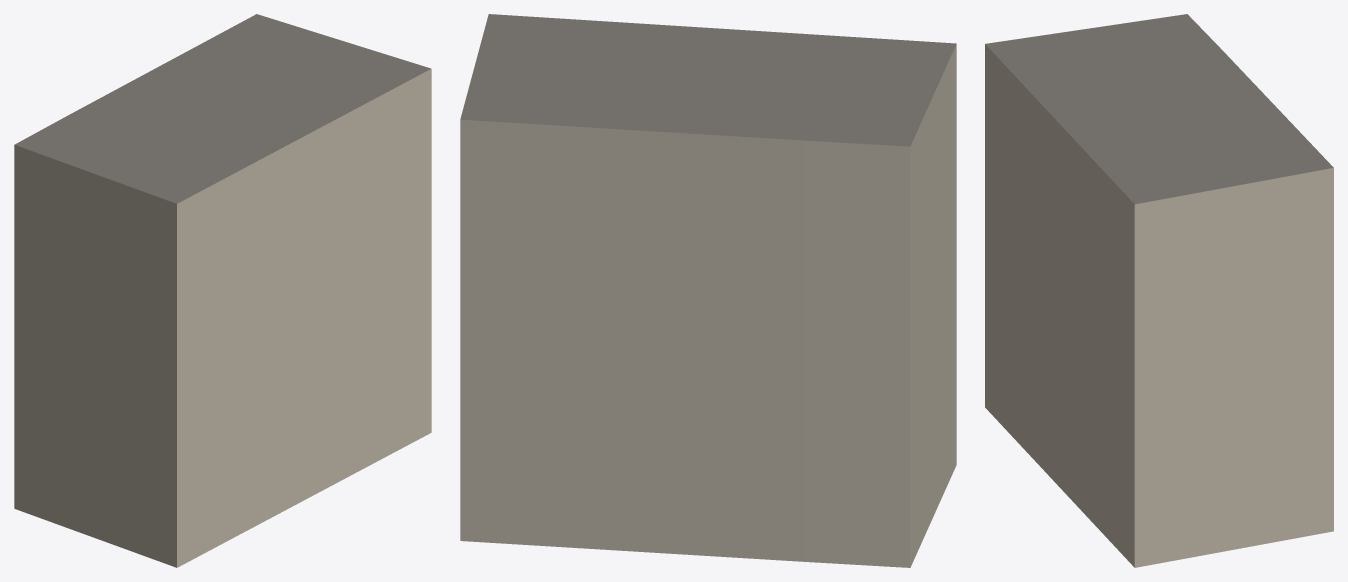
3 views of the same model, side by side, from view 1: azimuth 30°, elevation 25°; view 2: azimuth 150°, elevation 25°; view 3: azimuth 270°, elevation 25° (orthographic). The views are drawn at different scales.
Visible parts, largest first — view 1: HP-w1198569400; view 2: HP-w1198569400; view 3: HP-w1198569400.
Boxes of the visible parts, left/top/right/bottom form: HP-w1198569400: left=14, top=14, right=431, bottom=567; HP-w1198569400: left=460, top=14, right=956, bottom=567; HP-w1198569400: left=985, top=14, right=1333, bottom=567.
Size of the model in its own units: 20.22 by 18 by 15.66.
